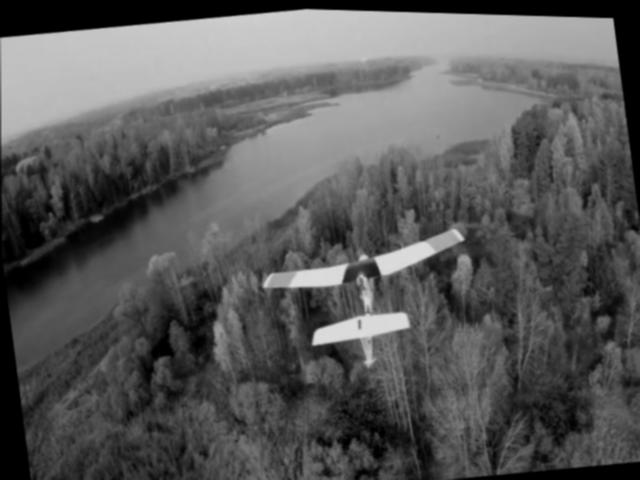hedef: (247, 217, 477, 375)
